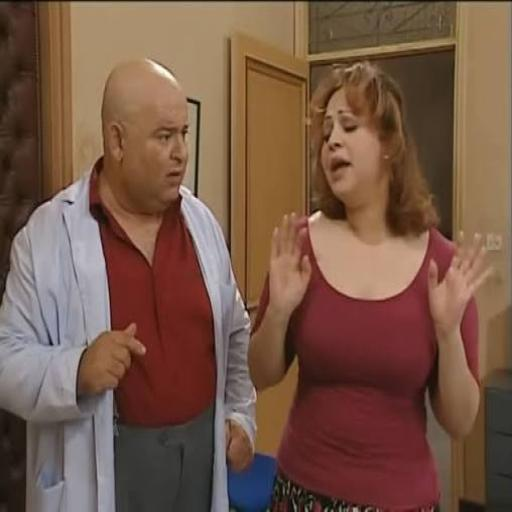AZZA: (308, 61, 435, 235)
sboui: (103, 60, 187, 214)
